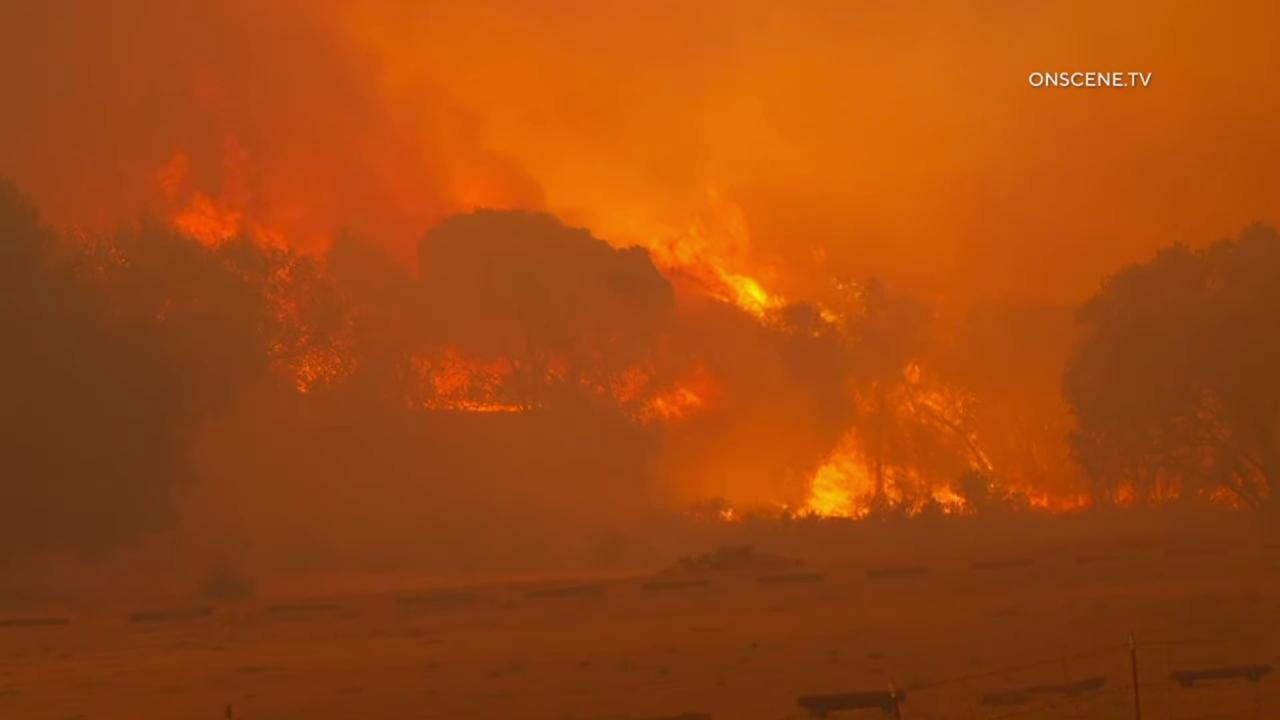fire: (149, 152, 363, 401), (772, 358, 1001, 521), (401, 335, 573, 414), (611, 353, 725, 428), (683, 260, 797, 330), (1003, 480, 1097, 518), (1203, 469, 1249, 511), (1108, 479, 1140, 510), (714, 505, 741, 526)
smoke: (0, 0, 1280, 720)
